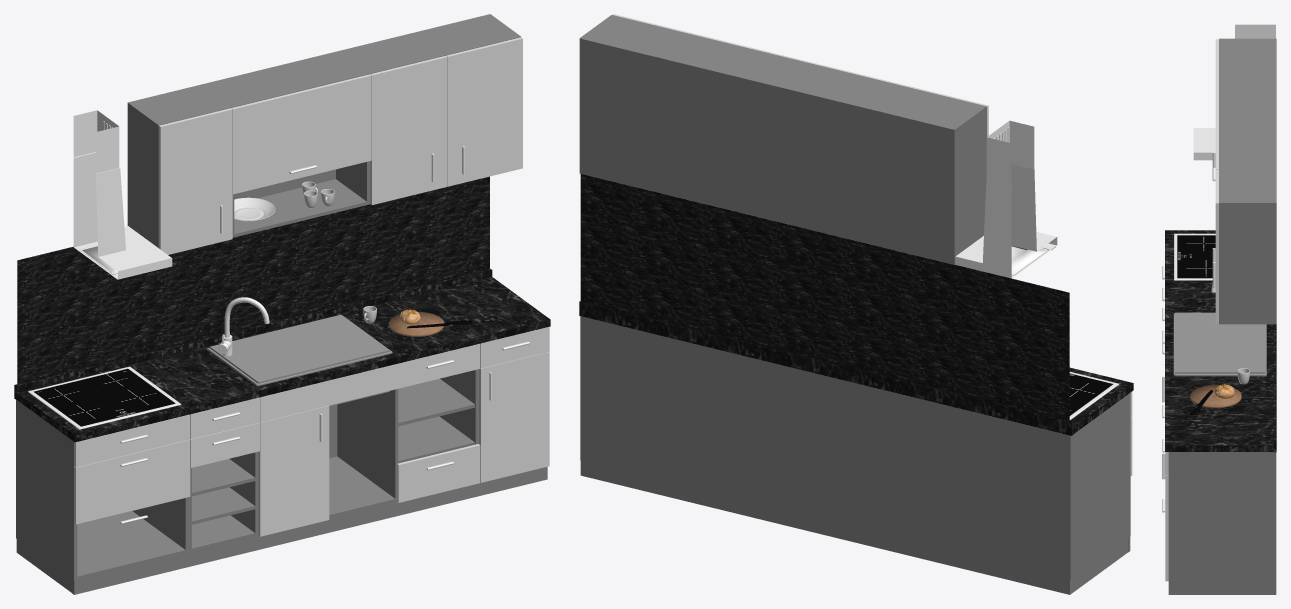
File: kitchen_type_1.glb
3 views of the same model, side by side, from view 1: azimuth 30°, elevation 25°; view 2: azimuth 150°, elevation 25°; view 3: azimuth 270°, elevation 25° (orthographic). The views are drawn at different scales.
Parts seen in each view (by area): view 1: back decor wall, top, cabinet_ground_40x82.014, cabinet_ground_40x82.012, cabinet_ground_40x82.011, cabinet_ground_40x82.004, cabinet_ground_40x82.013, cabinet_wall_40.003, cabinet_ground_60x82.002, cabinet_ground_40x82.003, cabinet_ground_40x82.006, bootom stand (+22 smaller); view 2: back decor wall, cabinet_ground_60x82.002, cabinet_ground_40x82.014, cabinet_wall_40.003, cabinet_wall_40.004, cabinet_wall_40.002, cabinet_wall_40.001, cabinet_ground_40x82.001, cabinet_ground_60x82.001, bootom stand, top.back, hood (+3 smaller); view 3: cabinet_ground_60x82.001, top, cabinet_wall_40.002, sink FRANKE._booleanbox, cabinet_wall_40.003, cabinet_wall_40.001, cabinet_wall_40.004, Plane.002, bootom stand, hood, cutting board, cabinet_ground_40x82.004 (+8 smaller).
Part boxes in pixels (box(x1,y1,x2,y2)): back decor wall: box(17, 176, 489, 384); top: box(16, 276, 550, 442); cabinet_ground_40x82.014: box(16, 399, 188, 580); cabinet_ground_40x82.012: box(231, 74, 371, 194); cabinet_ground_40x82.011: box(370, 56, 447, 204); cabinet_ground_40x82.004: box(446, 37, 522, 186); cabinet_ground_40x82.013: box(158, 108, 232, 254); cabinet_wall_40.003: box(200, 51, 370, 237); cabinet_ground_60x82.002: box(258, 369, 478, 535); cabinet_ground_40x82.003: box(258, 405, 329, 536); cabinet_ground_40x82.006: box(479, 352, 549, 482); bootom stand: box(16, 466, 547, 594); back decor wall: box(580, 174, 1069, 420); cabinet_ground_60x82.002: box(652, 333, 879, 533); cabinet_ground_40x82.014: box(951, 393, 1130, 579); cabinet_wall_40.003: box(736, 53, 911, 246); cabinet_wall_40.004: box(879, 88, 986, 264); cabinet_wall_40.002: box(579, 15, 689, 192); cabinet_wall_40.001: box(657, 34, 767, 211); cabinet_ground_40x82.001: box(880, 389, 951, 550); cabinet_ground_60x82.001: box(580, 316, 651, 477); bootom stand: box(580, 460, 1130, 594); top.back: box(579, 301, 1073, 435); hood: box(955, 164, 1057, 278); cabinet_ground_60x82.001: box(1168, 452, 1276, 581); top: box(1165, 230, 1273, 451); cabinet_wall_40.002: box(1219, 168, 1276, 324); sink FRANKE._booleanbox: box(1175, 312, 1265, 373); cabinet_wall_40.003: box(1219, 71, 1276, 134); cabinet_wall_40.001: box(1219, 134, 1276, 168); cabinet_wall_40.004: box(1219, 38, 1276, 71); Plane.002: box(1177, 235, 1215, 277); bootom stand: box(1168, 581, 1276, 594); hood: box(1193, 128, 1215, 160); cutting board: box(1190, 385, 1241, 408); cabinet_ground_40x82.004: box(1215, 169, 1218, 323).
Size of the model in its own units: 2.75 by 2.33 by 0.6157.
Materials: 19 (5 with a texture image).
